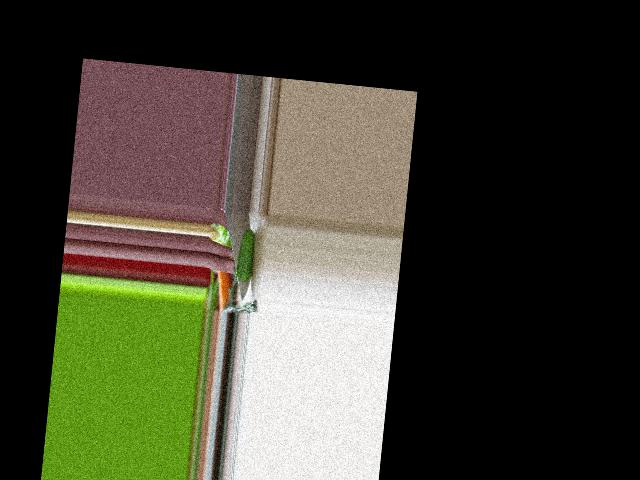cucumber: (235, 229, 256, 283)
